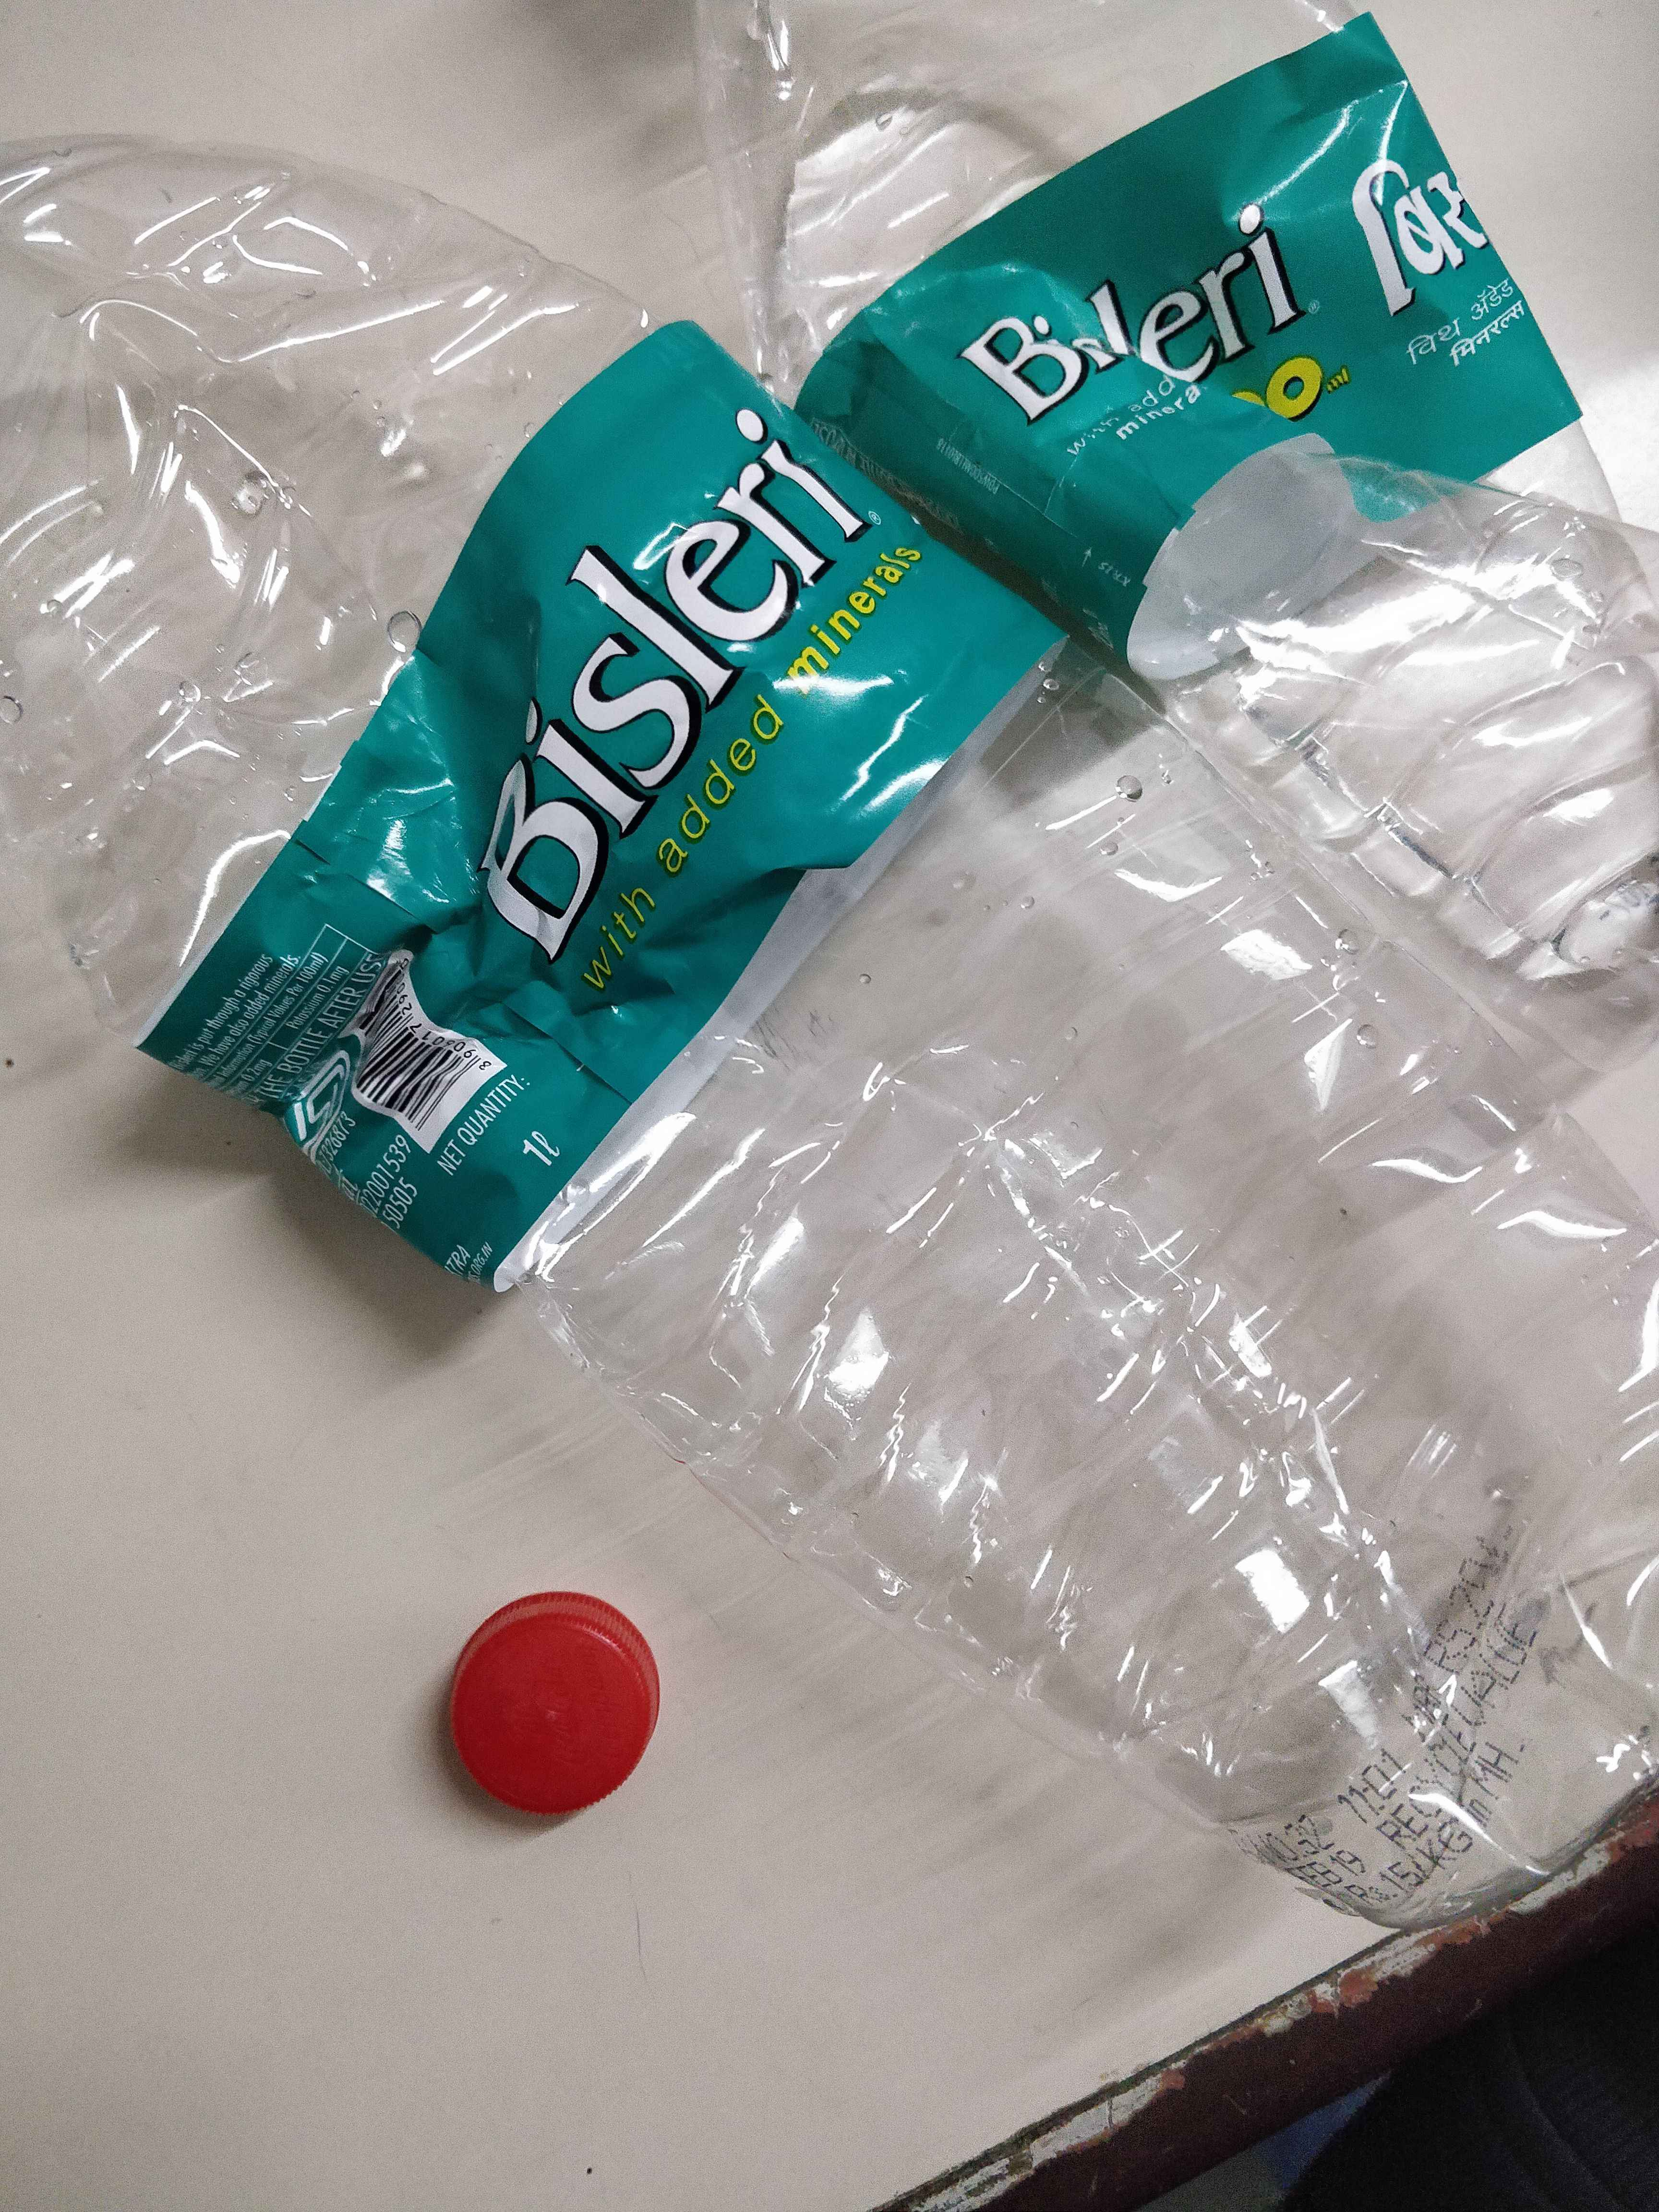Bisleri: (418, 404, 892, 963), (950, 157, 1488, 449)
